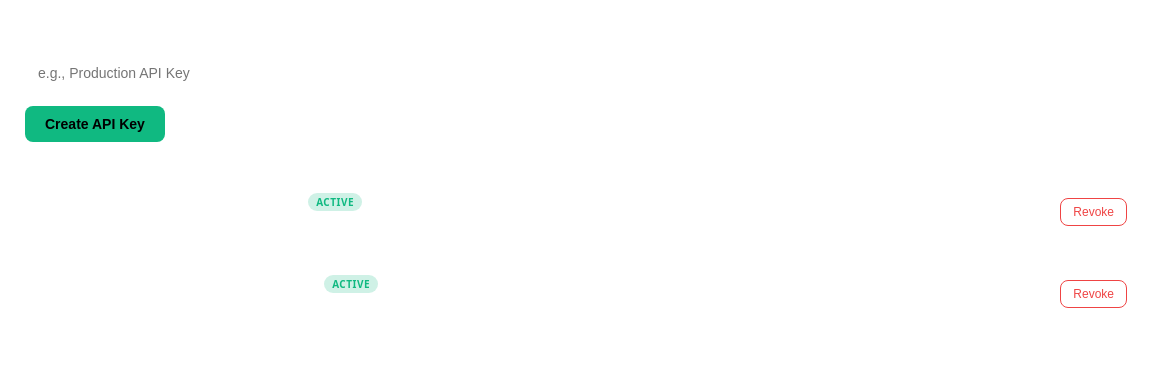
Scenario: APIKeyManager › new key display › should show new key display after creation
The image size is (1152, 368).
Type "New Key" into the field named "API key name" at (495, 73), box x1=25 y1=54 x2=965 y2=92
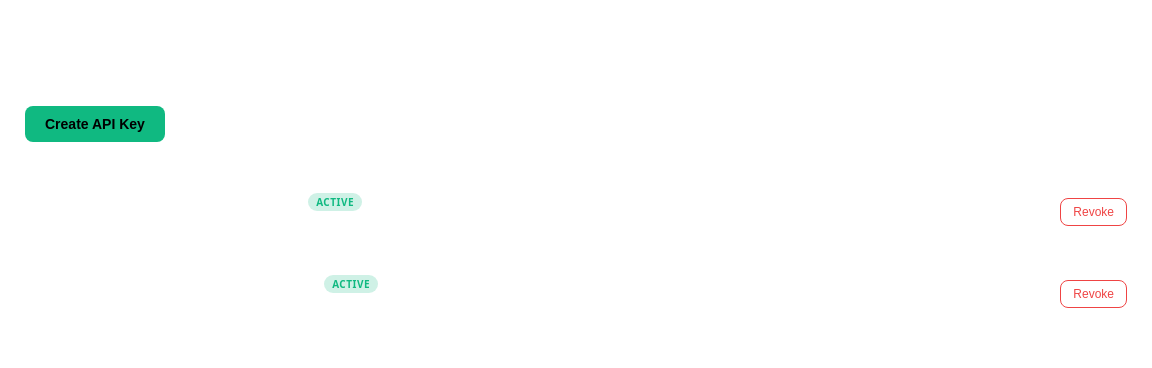
Click the button "Create API Key" at (95, 124), box x1=25 y1=106 x2=165 y2=142
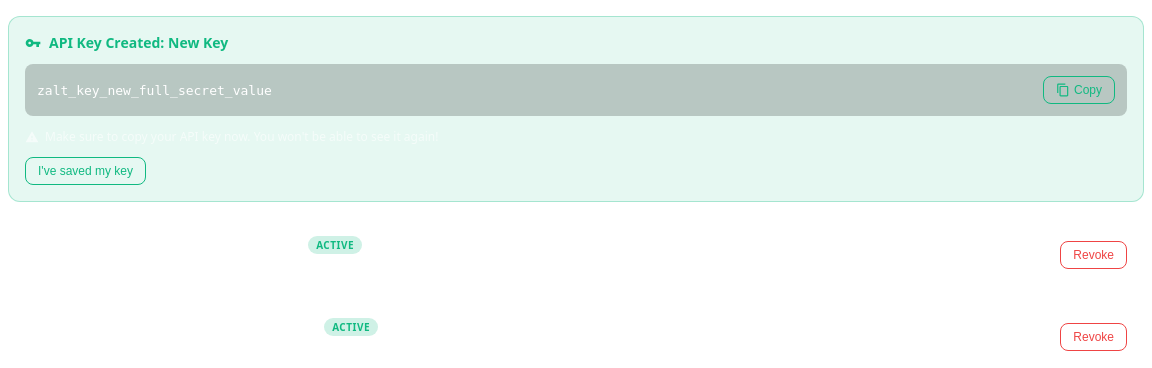
Check: the element with test id "new-key-display" is shown, box x1=8 y1=16 x2=1144 y2=202
